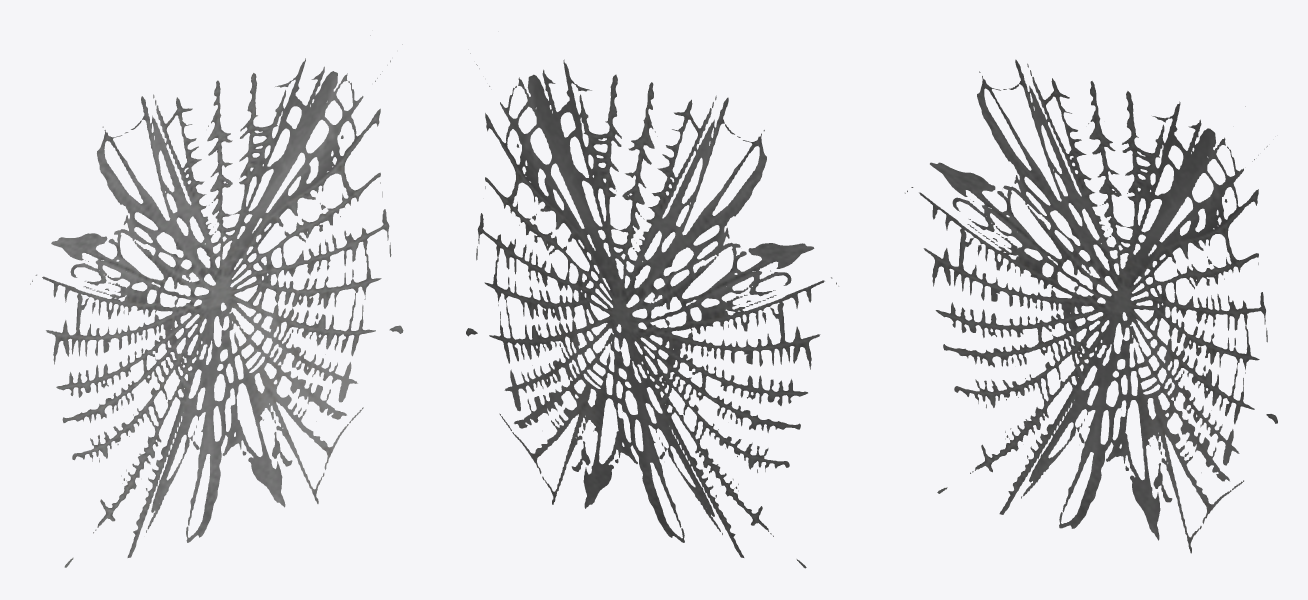
File: DN_cobweb_a.FBX
The picture shows the model from 3 angles, left to right: view 1: azimuth 30°, elevation 25°; view 2: azimuth 150°, elevation 25°; view 3: azimuth 330°, elevation 25°; orthographic projection.
Parts seen in each view (by area): view 1: DN_cobweb_a; view 2: DN_cobweb_a; view 3: DN_cobweb_a.
Part boxes in pixels (<box>): DN_cobweb_a: <box>30,35,403,567</box>; DN_cobweb_a: <box>466,53,838,568</box>; DN_cobweb_a: <box>905,59,1277,553</box>.
Size of the model in its own units: 15498 by 17154 by 1074.
